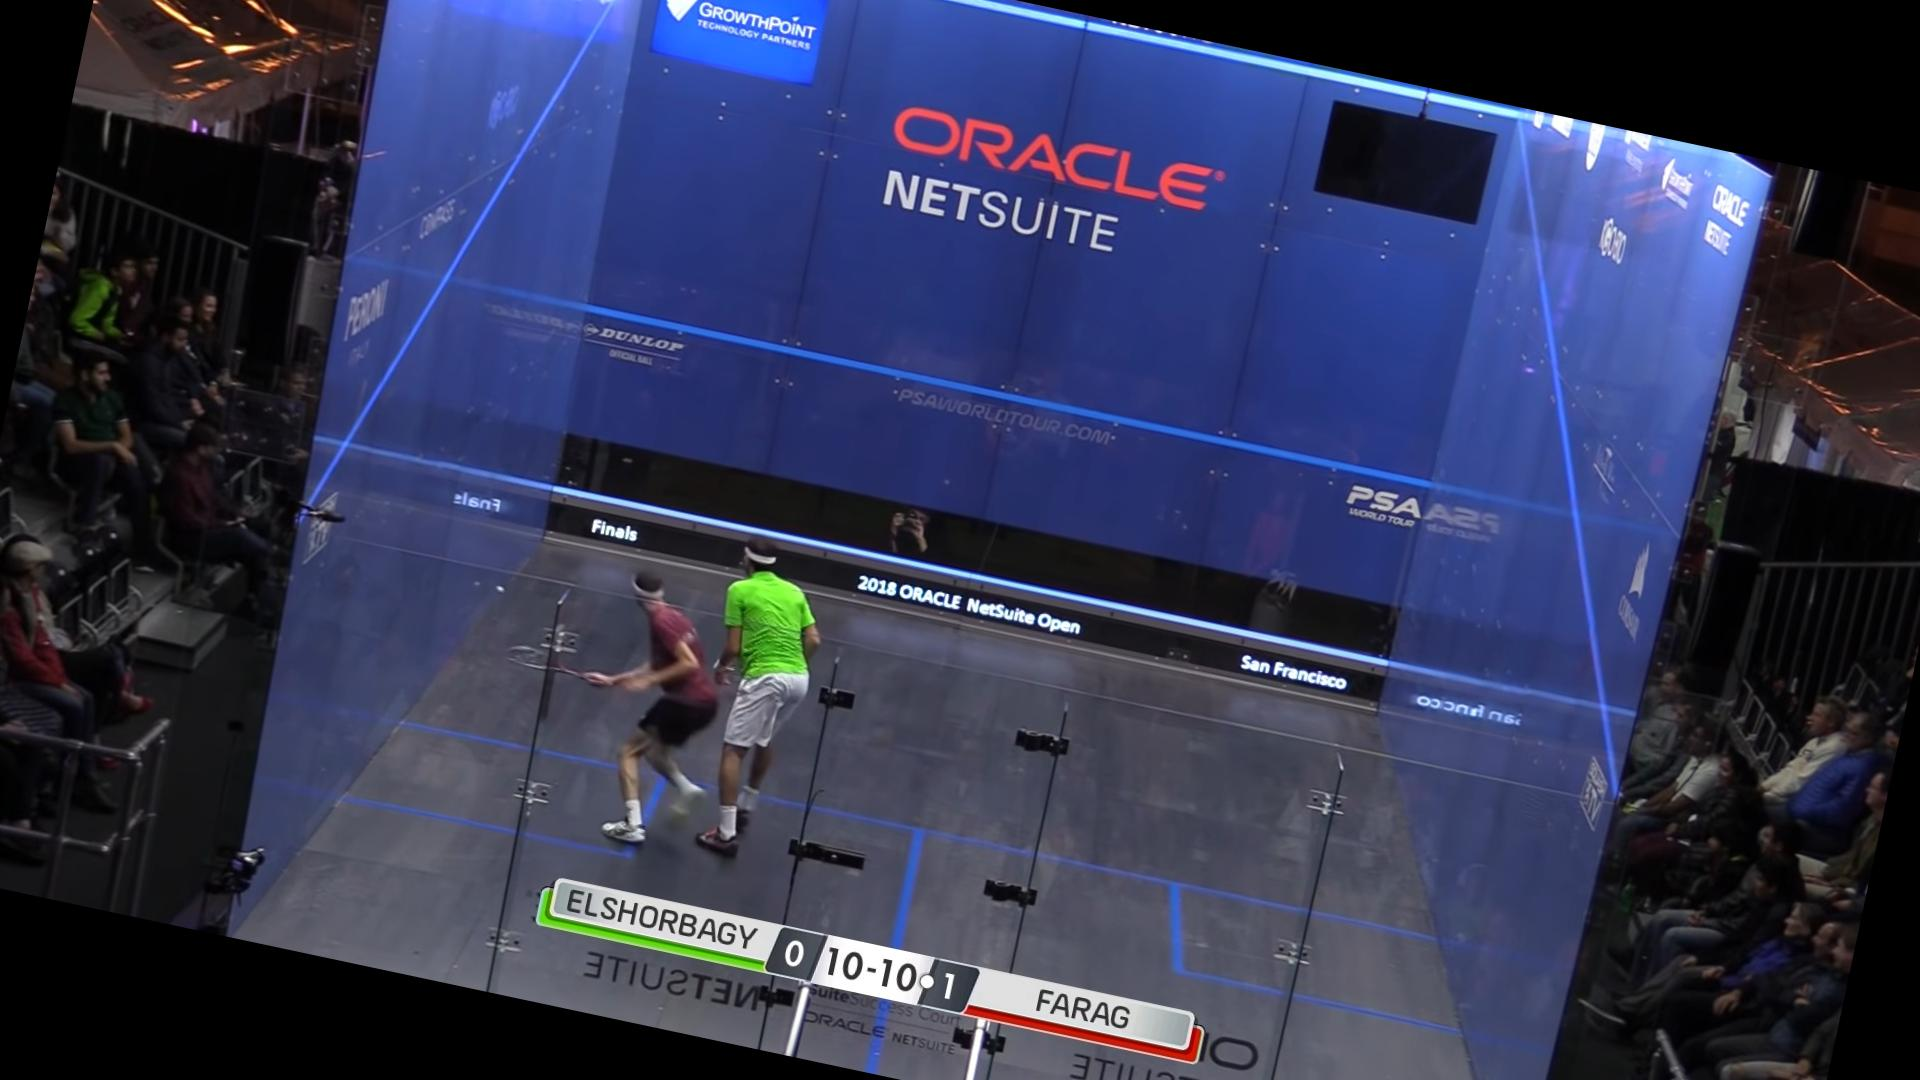Squash-Ball: (491, 576, 521, 605)
